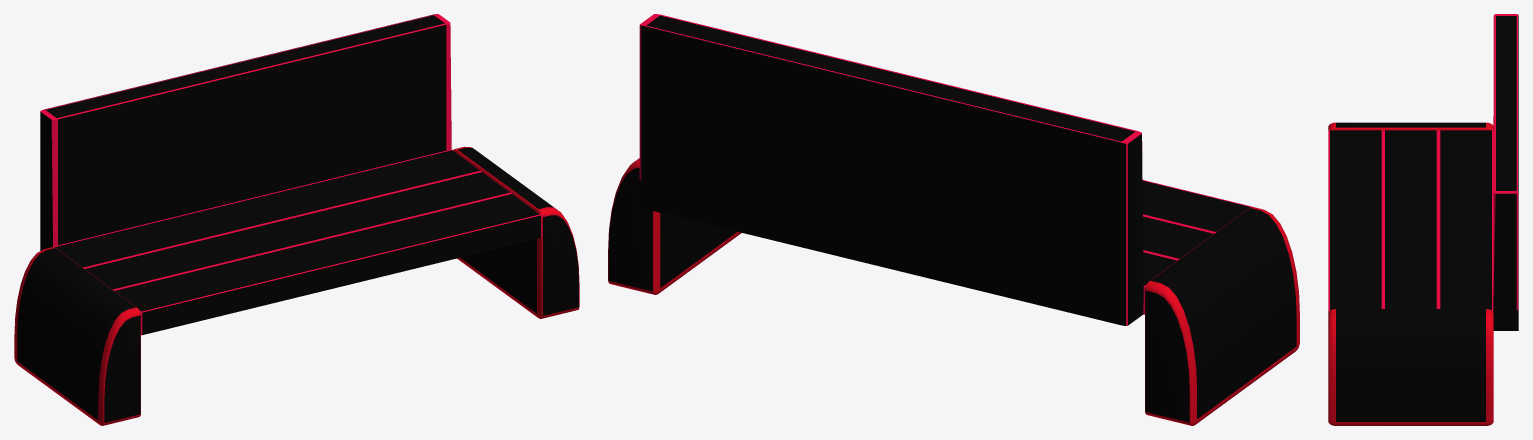
File: bench NEON.fbx
3 renders of one model, left to right at view 1: azimuth 30°, elevation 25°; view 2: azimuth 150°, elevation 25°; view 3: azimuth 270°, elevation 25°, orthographic. The views are drawn at different scales.
Visible parts, largest first — view 1: Cube; view 2: Cube; view 3: Cube.
Part boxes in pixels (x1=…): Cube: x1=14, y1=14, x2=579, y2=425; Cube: x1=608, y1=14, x2=1299, y2=425; Cube: x1=1328, y1=14, x2=1518, y2=425.
Bounding box in the file's own units: 616 × 287 × 230.
